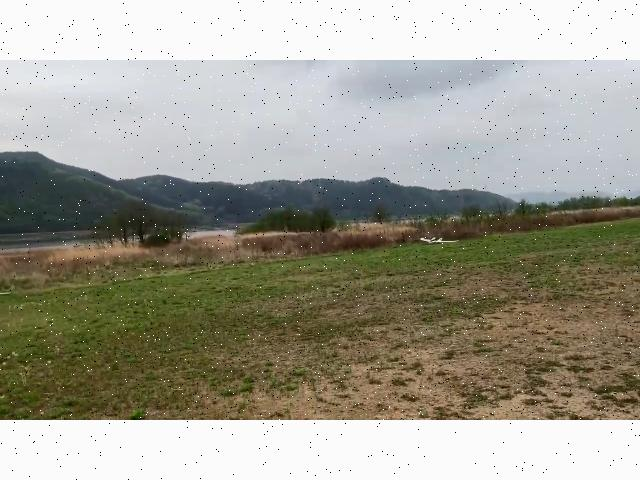Anti-Drone: (402, 228, 474, 250)
